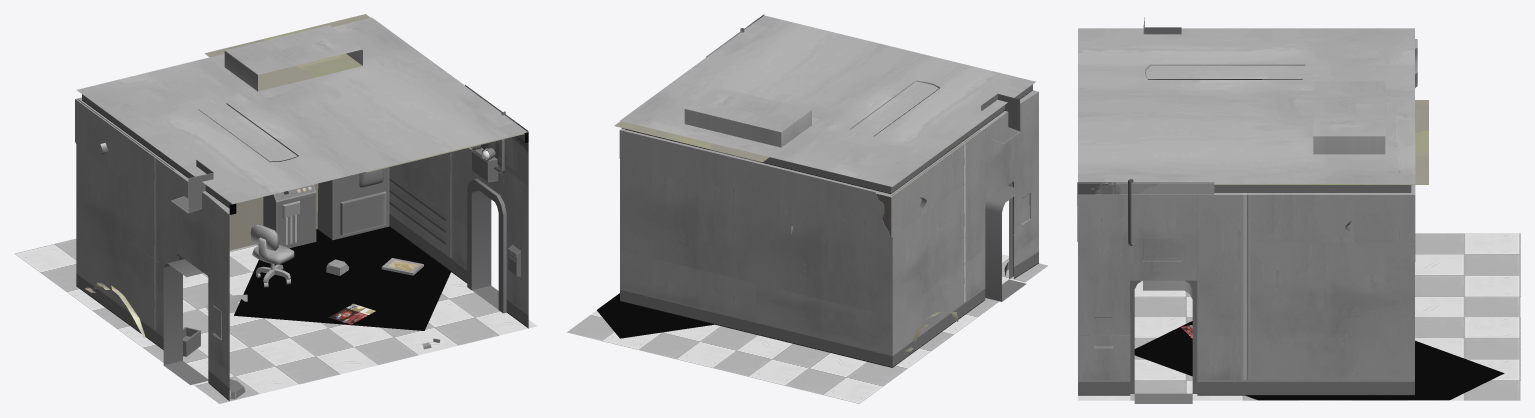
File: MSH_QuestObservatory_L2_R1_optimized.fbx
3 renders of one model, left to right at view 1: azimuth 30°, elevation 25°; view 2: azimuth 150°, elevation 25°; view 3: azimuth 270°, elevation 25°, orthographic. The views are drawn at different scales.
Visible parts, largest first — view 1: lightmap0, lightmap3, MSH_QuestObservatory_L2_R1_Decals_01; view 2: lightmap0, lightmap3, MSH_QuestObservatory_L2_R1_Decals_01; view 3: lightmap0, lightmap3, MSH_QuestObservatory_L2_R1_Decals_01.
Part boxes in pixels (<box>): lightmap0: <box>75,17,528,400</box>; lightmap3: <box>14,238,536,403</box>; MSH_QuestObservatory_L2_R1_Decals_01: <box>77,14,528,330</box>; lightmap0: <box>619,15,1038,367</box>; lightmap3: <box>566,254,1047,403</box>; MSH_QuestObservatory_L2_R1_Decals_01: <box>597,14,980,338</box>; lightmap0: <box>1078,17,1417,403</box>; lightmap3: <box>1078,233,1520,400</box>; MSH_QuestObservatory_L2_R1_Decals_01: <box>1077,100,1504,400</box>.
Bounding box in the file's own units: 10.3 × 6.63 × 11.18.
8 materials, 7 textured.
